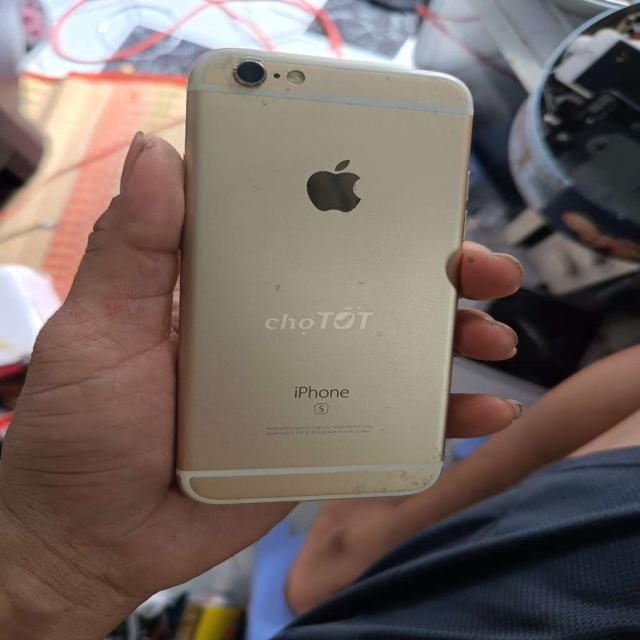scratch: (196, 46, 332, 112), (330, 454, 464, 498), (375, 54, 455, 126)
